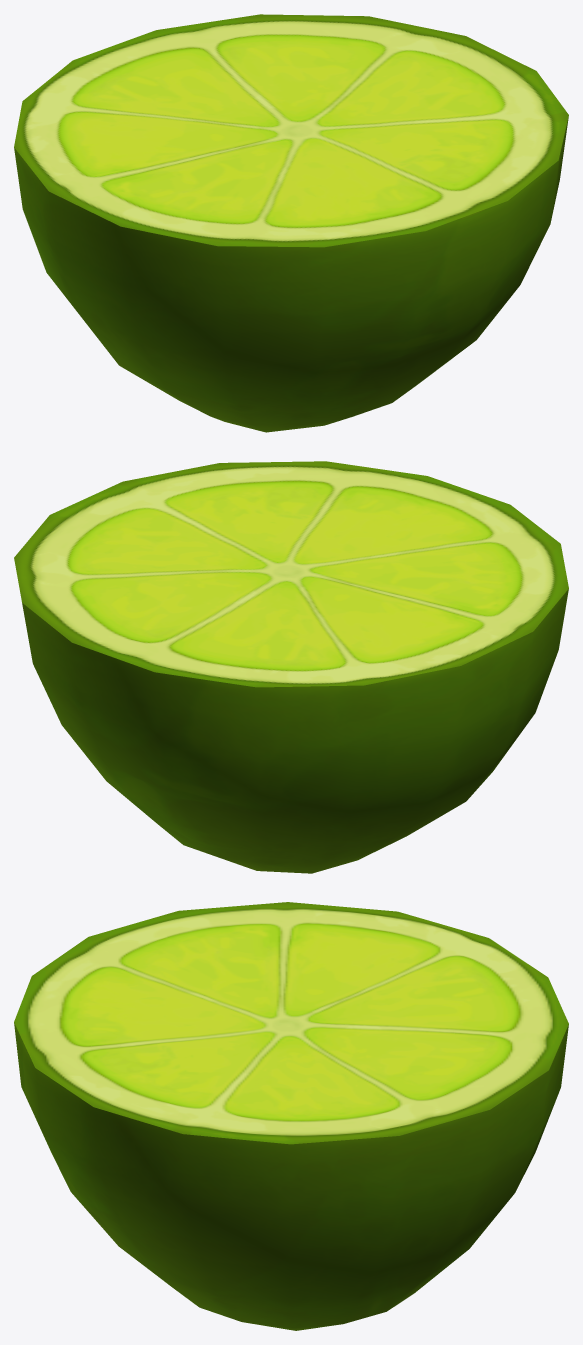
The model's file is SM_LimeCutBottom.fbx.
3 views of the same model, one above another, from view 1: azimuth 30°, elevation 25°; view 2: azimuth 150°, elevation 25°; view 3: azimuth 270°, elevation 25° (orthographic). The views are drawn at different scales.
Parts seen in each view (by area): view 1: SM_LimeCutBottom; view 2: SM_LimeCutBottom; view 3: SM_LimeCutBottom.
Boxes of the visible parts, x1,y1,x2,y2 form: SM_LimeCutBottom: (14, 14, 568, 432); SM_LimeCutBottom: (14, 461, 568, 873); SM_LimeCutBottom: (14, 902, 568, 1330).
Size of the model in its own units: 8.64 by 4.86 by 8.36.
